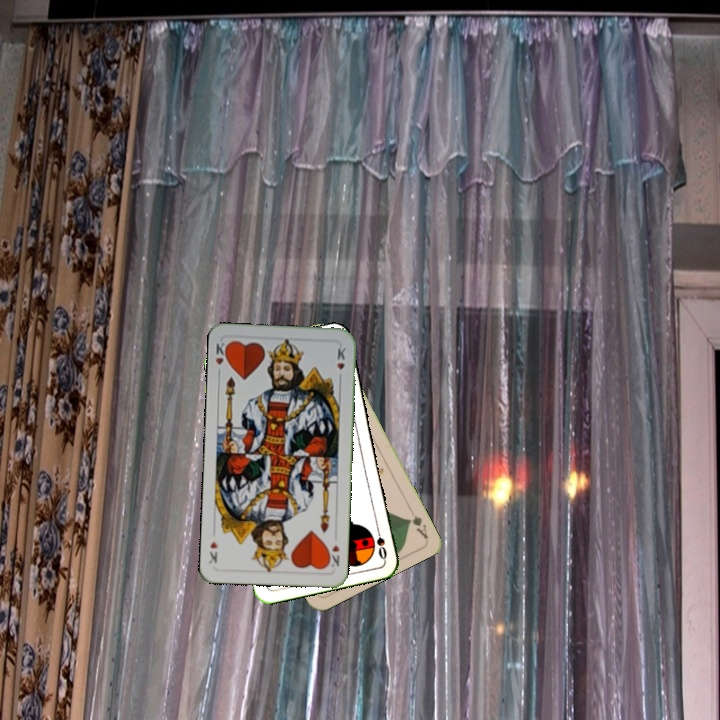GA: (404, 512, 430, 541)
HK: (211, 338, 231, 378), (324, 541, 342, 570)
SO: (369, 522, 389, 562)
